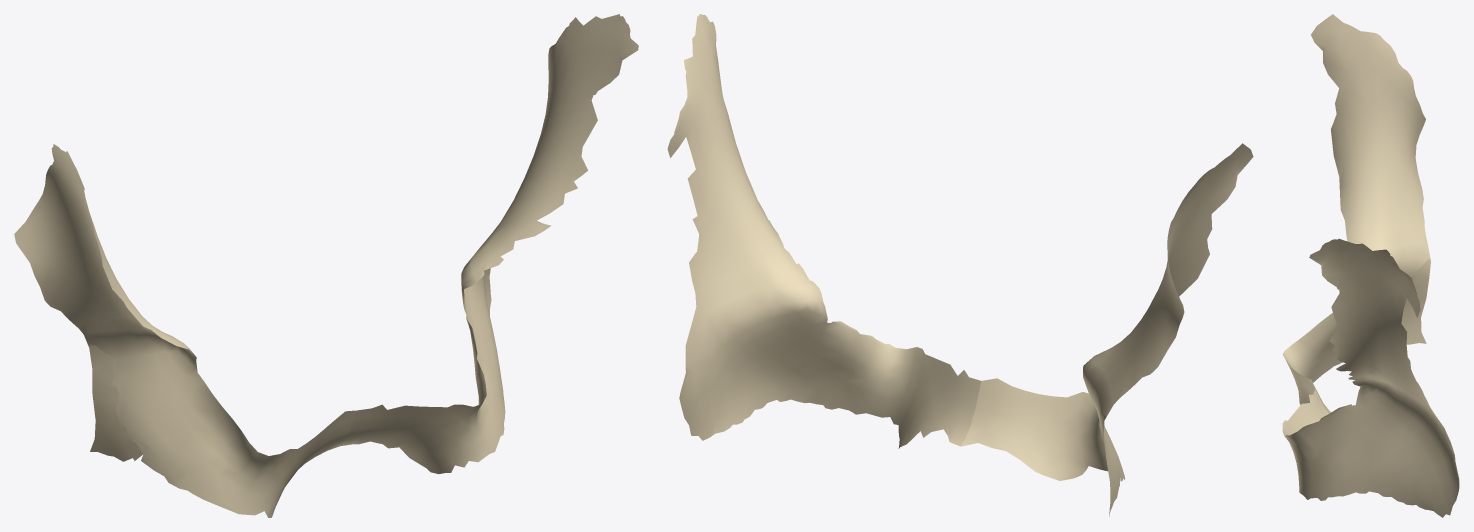
The model's file is Sphenoidale.fbx.
The picture shows the model from 3 angles, left to right: view 1: azimuth 30°, elevation 25°; view 2: azimuth 150°, elevation 25°; view 3: azimuth 270°, elevation 25°; orthographic projection. The views are drawn at different scales.
Parts seen in each view (by area): view 1: Sphenoidale; view 2: Sphenoidale; view 3: Sphenoidale.
Boxes of the visible parts, x1,y1,x2,y2 form: Sphenoidale: (14,14,638,517); Sphenoidale: (667,14,1253,516); Sphenoidale: (1282,14,1459,517).
Bounding box in the file's own units: 496 × 344 × 166.
